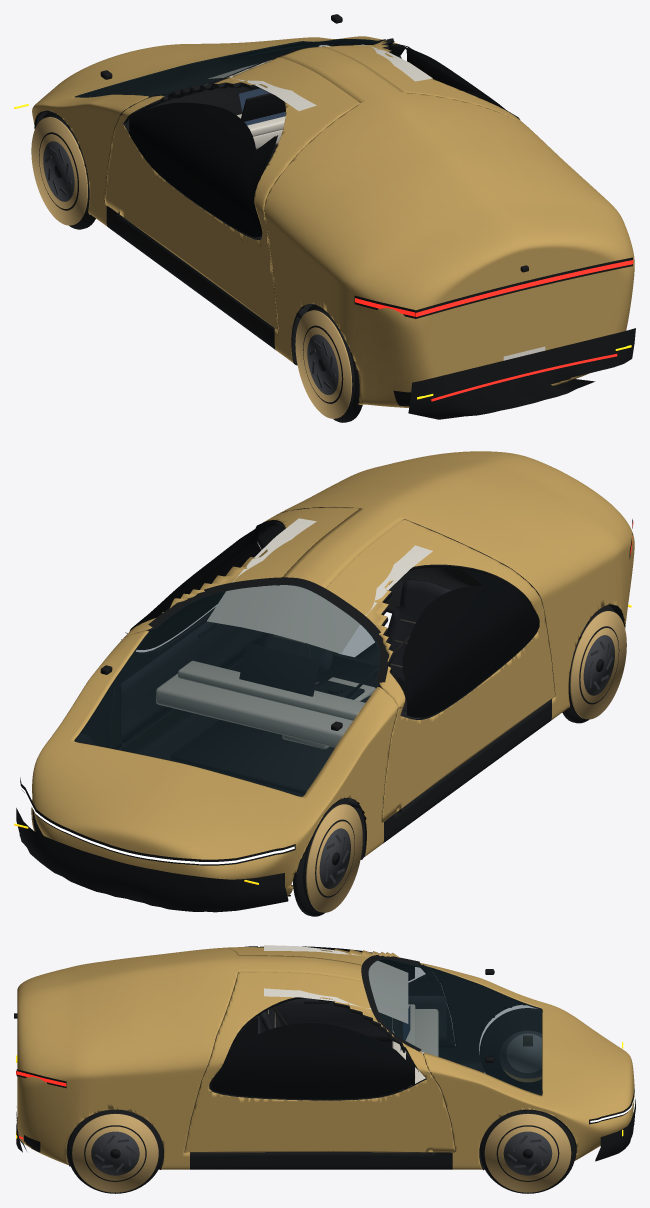
Rendered from cybercab.glb.
3 views of the same model, one above another, from view 1: azimuth 30°, elevation 25°; view 2: azimuth 150°, elevation 25°; view 3: azimuth 270°, elevation 25° (orthographic). The views are drawn at different scales.
Parts seen in each view (by area): view 1: body, door-l, door-glass-l, rear-bumper, windshield, aero-fl, aero-rl, door-r, rear-lamp-recess, headliner, rear-lightbar, aero-turbine-rl (+6 smaller); view 2: body, windshield, door-l, door-glass-l, chin, headliner, floor, door-r, dash, inner-card-r, dash-pad, aero-fl (+12 smaller); view 3: body, door-r, windshield, door-glass-r, aero-rr, aero-fr, inner-card-l, headliner, door-l, tire-fl, aero-turbine-fr, aero-turbine-rr (+8 smaller).
Part boxes in pixels (left/top/right/bottom): body: left=32, top=36, right=634, bottom=407; door-l: left=105, top=57, right=359, bottom=330; door-glass-l: left=129, top=103, right=275, bottom=237; rear-bumper: left=408, top=328, right=635, bottom=419; windshield: left=74, top=38, right=378, bottom=97; aero-fl: left=31, top=117, right=87, bottom=225; aero-rl: left=295, top=310, right=352, bottom=418; door-r: left=322, top=38, right=528, bottom=127; rear-lamp-recess: left=354, top=257, right=632, bottom=318; headliner: left=208, top=44, right=432, bottom=110; rear-lightbar: left=355, top=260, right=633, bottom=316; aero-turbine-rl: left=307, top=334, right=338, bottom=394; body: left=32, top=451, right=634, bottom=896; windshield: left=74, top=584, right=380, bottom=796; door-l: left=326, top=519, right=555, bottom=822; door-glass-l: left=398, top=569, right=539, bottom=717; chin: left=16, top=808, right=288, bottom=912; headliner: left=207, top=518, right=432, bottom=653; floor: left=171, top=656, right=406, bottom=808; door-r: left=106, top=507, right=359, bottom=749; dash: left=156, top=673, right=352, bottom=747; inner-card-r: left=119, top=621, right=263, bottom=743; dash-pad: left=178, top=661, right=365, bottom=720; aero-fl: left=306, top=804, right=362, bottom=912; body: left=17, top=948, right=634, bottom=1170; door-r: left=185, top=972, right=455, bottom=1153; windshield: left=367, top=958, right=541, bottom=1095; door-glass-r: left=211, top=1018, right=414, bottom=1099; aero-rr: left=72, top=1113, right=158, bottom=1192; aero-fr: left=484, top=1113, right=571, bottom=1192; inner-card-l: left=233, top=995, right=446, bottom=1043; headliner: left=264, top=945, right=408, bottom=1023; door-l: left=214, top=947, right=455, bottom=1048; tire-fl: left=479, top=1008, right=541, bottom=1089; aero-turbine-fr: left=503, top=1131, right=552, bottom=1175; aero-turbine-rr: left=91, top=1131, right=139, bottom=1175.
Size of what is drawn, in the model's own units: 1.78 by 1.41 by 4.31.
